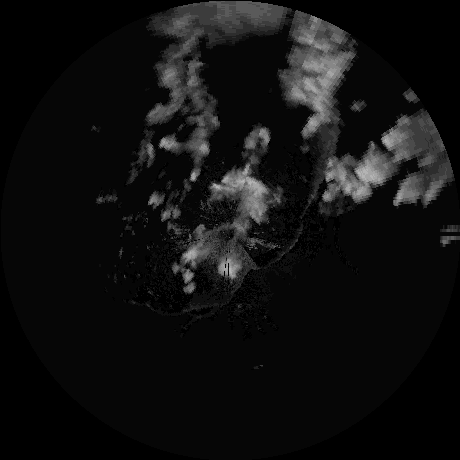frontgust: (257, 186, 320, 269), (175, 274, 244, 314)
